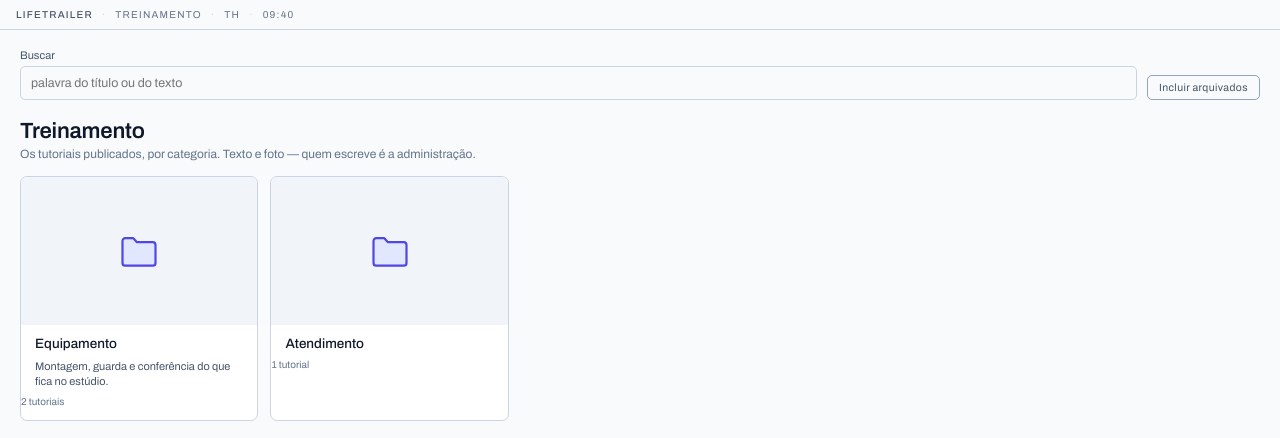
Test case: Treinamento › mostra uma pasta por categoria, e a pasta abre os tutoriais dela
Check: the heading "Treinamento" is shown, box [20,119,145,143]
Check: the text "Os tutoriais publicados, por categoria. Texto e foto — quem escreve é a administração." is shown, box [20,147,476,161]
Click the button "Equipamento" at (139, 298), box [20,176,258,421]
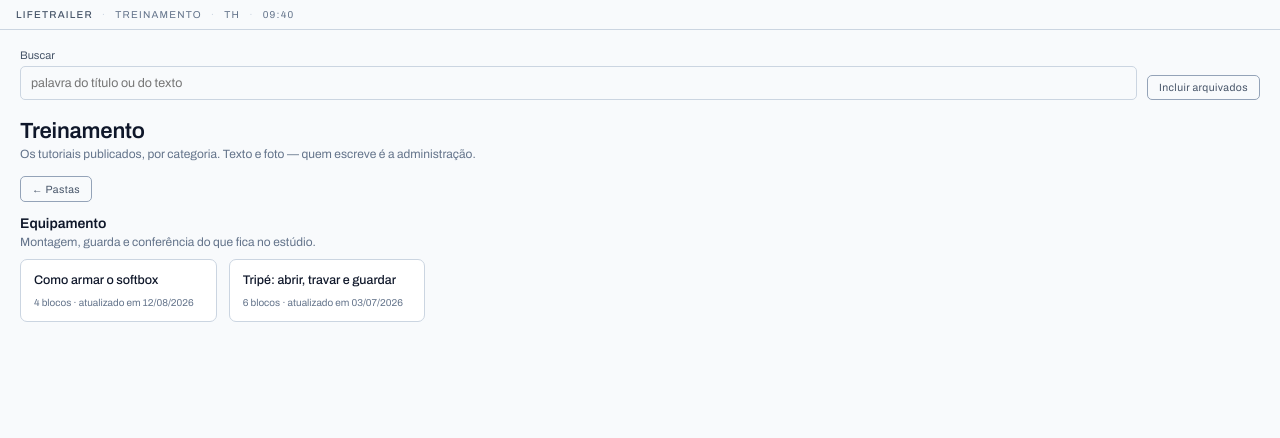
Check: the button "Como armar o softbox 4 blocos · atualizado em 12/08/2026" is shown, box [20,259,217,322]
Check: the button "Tripé: abrir, travar e guardar" shows "6 blocos", box [229,259,425,322]
Check: the button "Tripé: abrir, travar e guardar" shows "atualizado em 03/07/2026", box [229,259,425,322]
Click the button "← Pastas" at (56, 189), box [20,176,92,202]
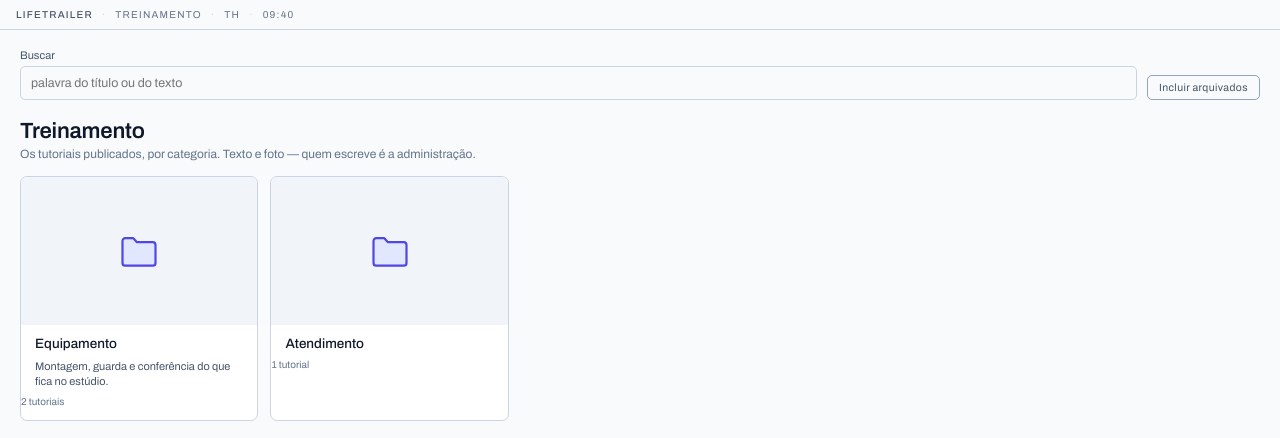
Check: the list named "Pastas" is shown, box [20,176,509,421]
